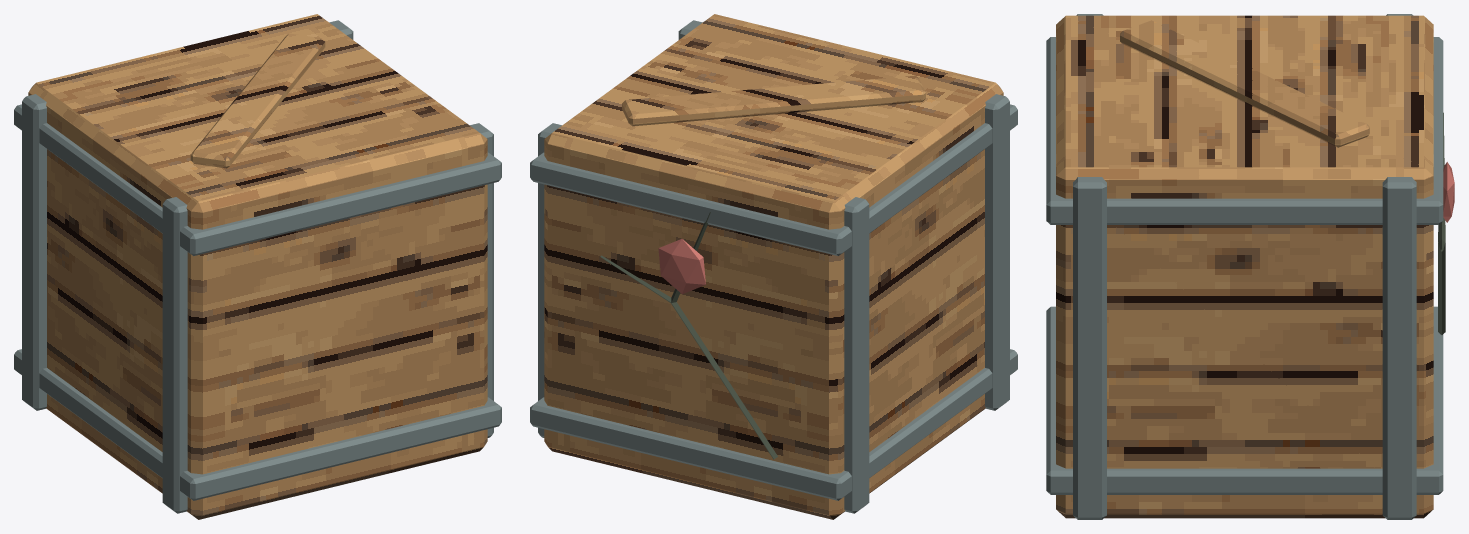
The model's file is caixa_rachada.glb.
3 renders of one model, left to right at view 1: azimuth 30°, elevation 25°; view 2: azimuth 150°, elevation 25°; view 3: azimuth 270°, elevation 25°, orthographic. The views are drawn at different scales.
Parts seen in each view (by area): view 1: deserto_caixa_rachada; view 2: deserto_caixa_rachada; view 3: deserto_caixa_rachada.
Part boxes in pixels (x1=…): deserto_caixa_rachada: x1=14, y1=14, x2=501, y2=519; deserto_caixa_rachada: x1=530, y1=14, x2=1017, y2=519; deserto_caixa_rachada: x1=1046, y1=14, x2=1454, y2=519.
Bounding box in the file's own units: 0.842 × 0.832 × 0.8433.
4 materials, 1 textured.
